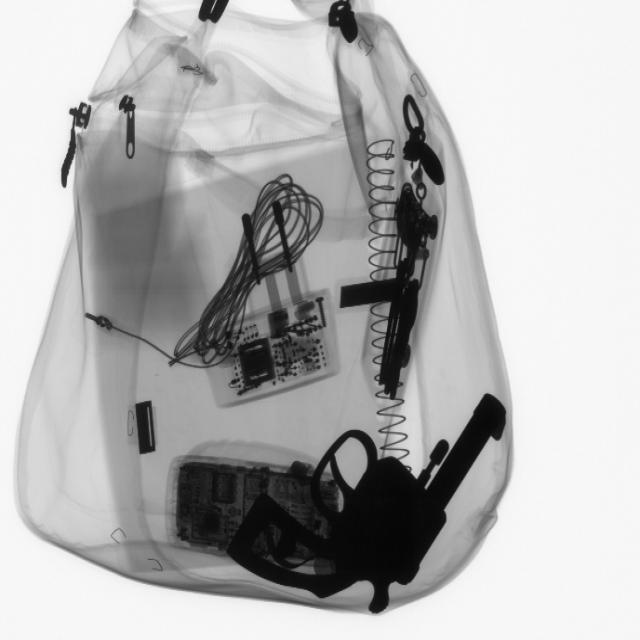GUN: (237, 384, 521, 617)
